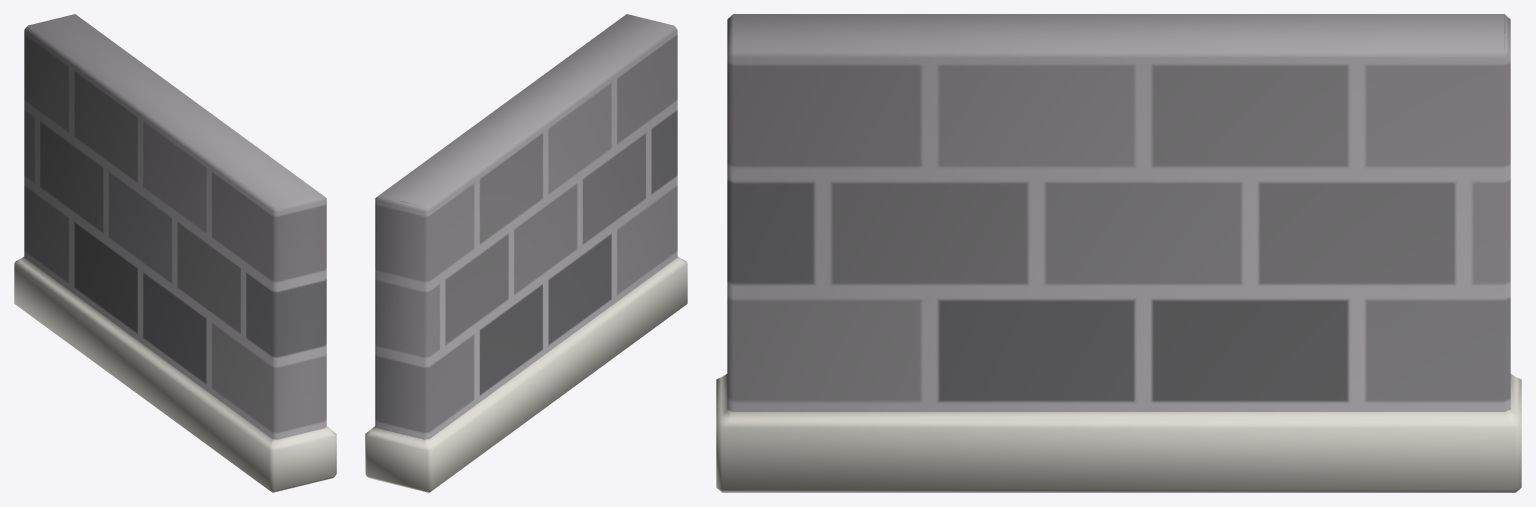
File: wall.glb
The picture shows the model from 3 angles, left to right: view 1: azimuth 30°, elevation 25°; view 2: azimuth 150°, elevation 25°; view 3: azimuth 270°, elevation 25°; orthographic projection. The views are drawn at different scales.
Parts seen in each view (by area): view 1: StoneWall; view 2: StoneWall; view 3: StoneWall.
Part boxes in pixels (x1,y1,x2,y2): StoneWall: (14,14,336,492); StoneWall: (365,14,687,492); StoneWall: (716,14,1521,492).
Bounding box in the file's own units: 0.3005 × 1.2 × 2.
2 materials, 1 textured.
